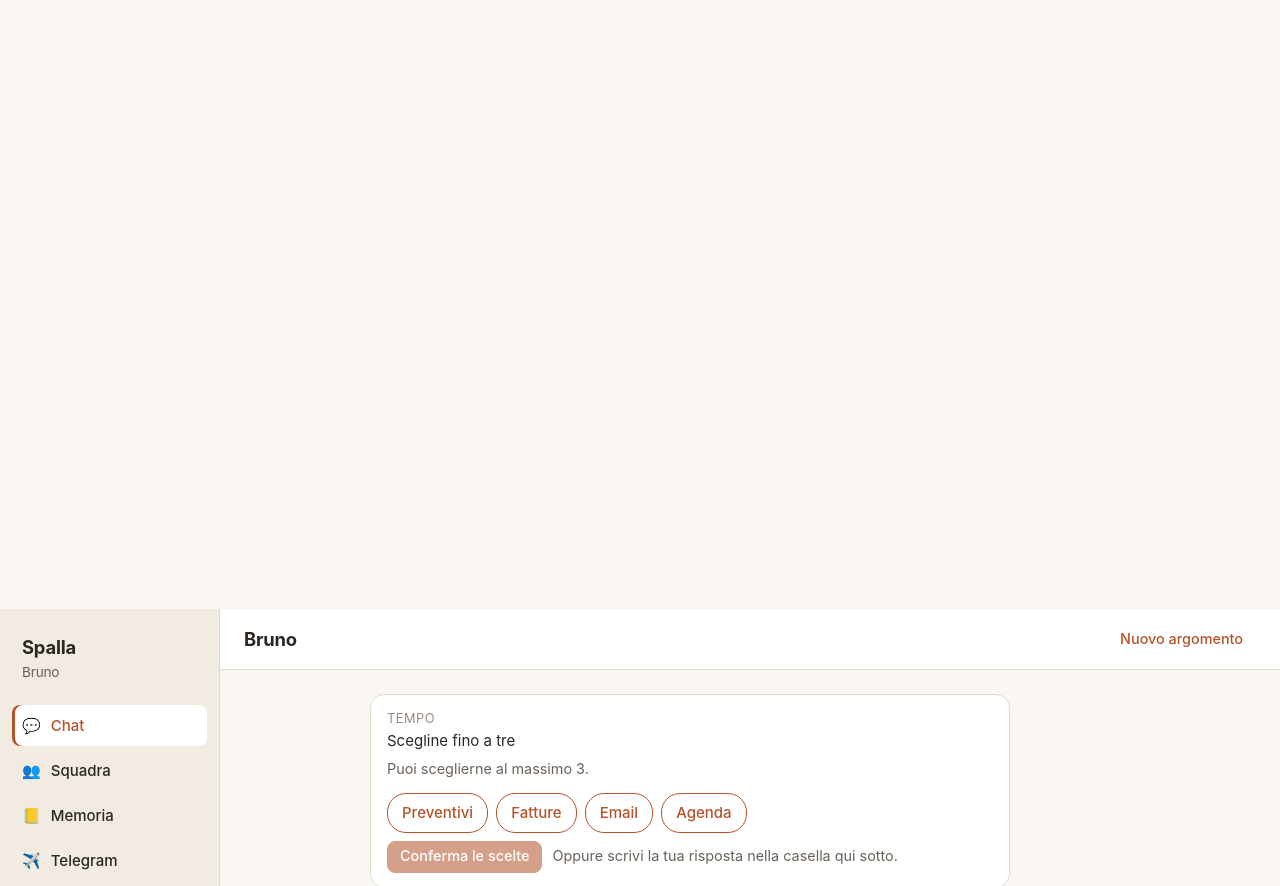
it: la chat nella finestra › scelta multipla: «fino a tre» si rispetta; le chip toccate non si perdono scrivendo nella casella in fondo
The image size is (1280, 886).
Later steps or results of the test are not shown.
(page scrolled)
What coordinates should you click on to do the following:
click the button "Preventivi"
I would click on:
 (438, 813)
Its box is [387, 793, 488, 833].
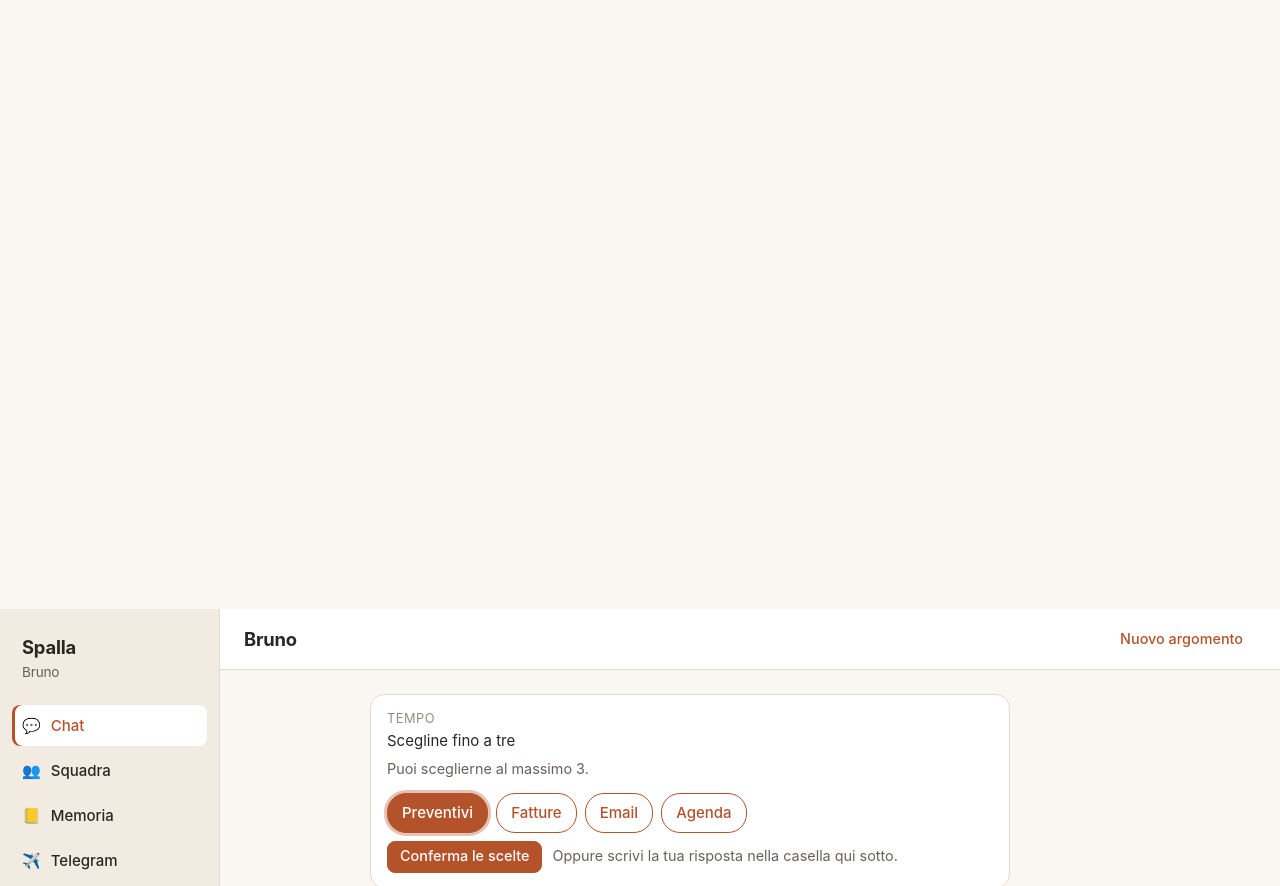
What coordinates should you click on to do the following:
click the button "Fatture"
I would click on:
 (536, 813)
Its box is [496, 793, 577, 833].
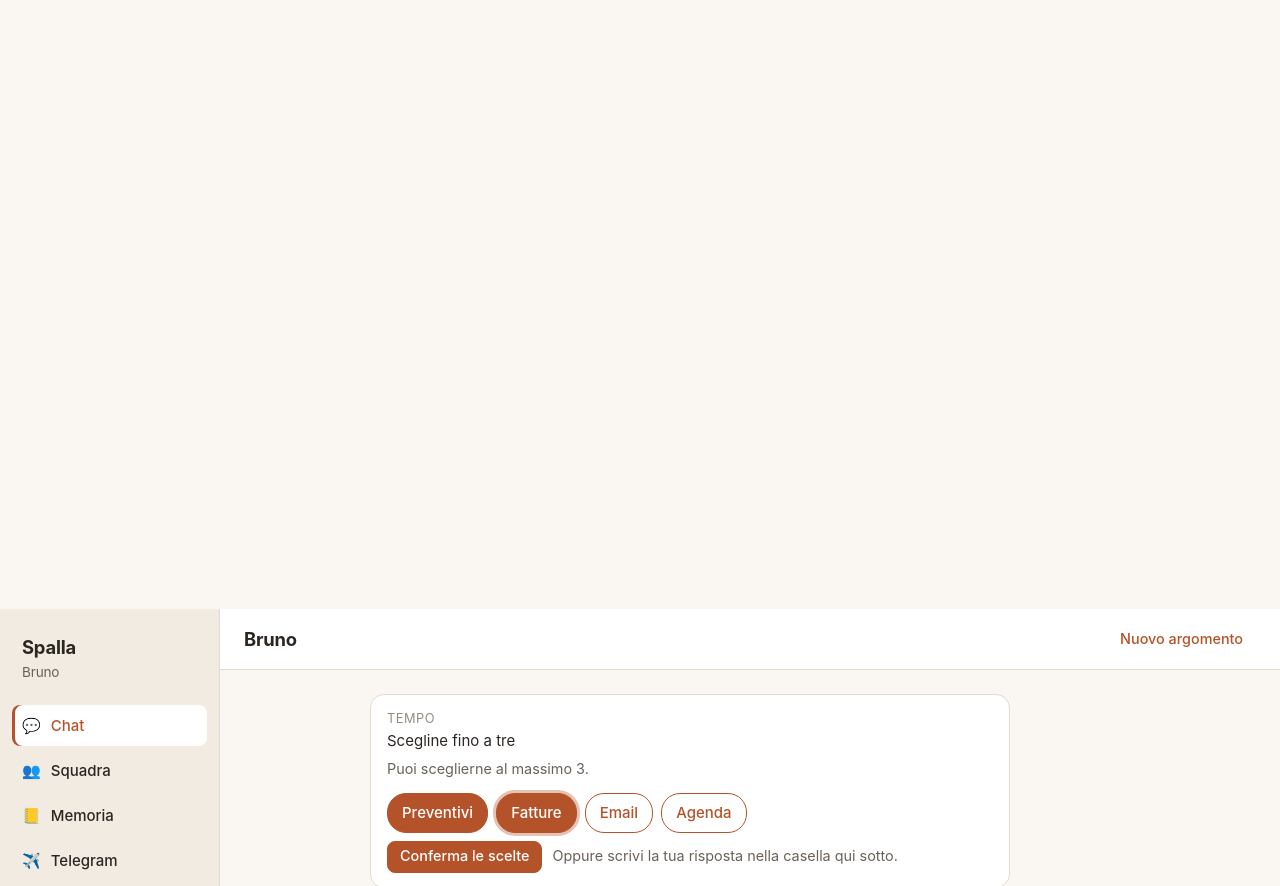
What coordinates should you click on to do the following:
click the button "Email"
I would click on:
 (619, 813)
Its box is [585, 793, 653, 833].
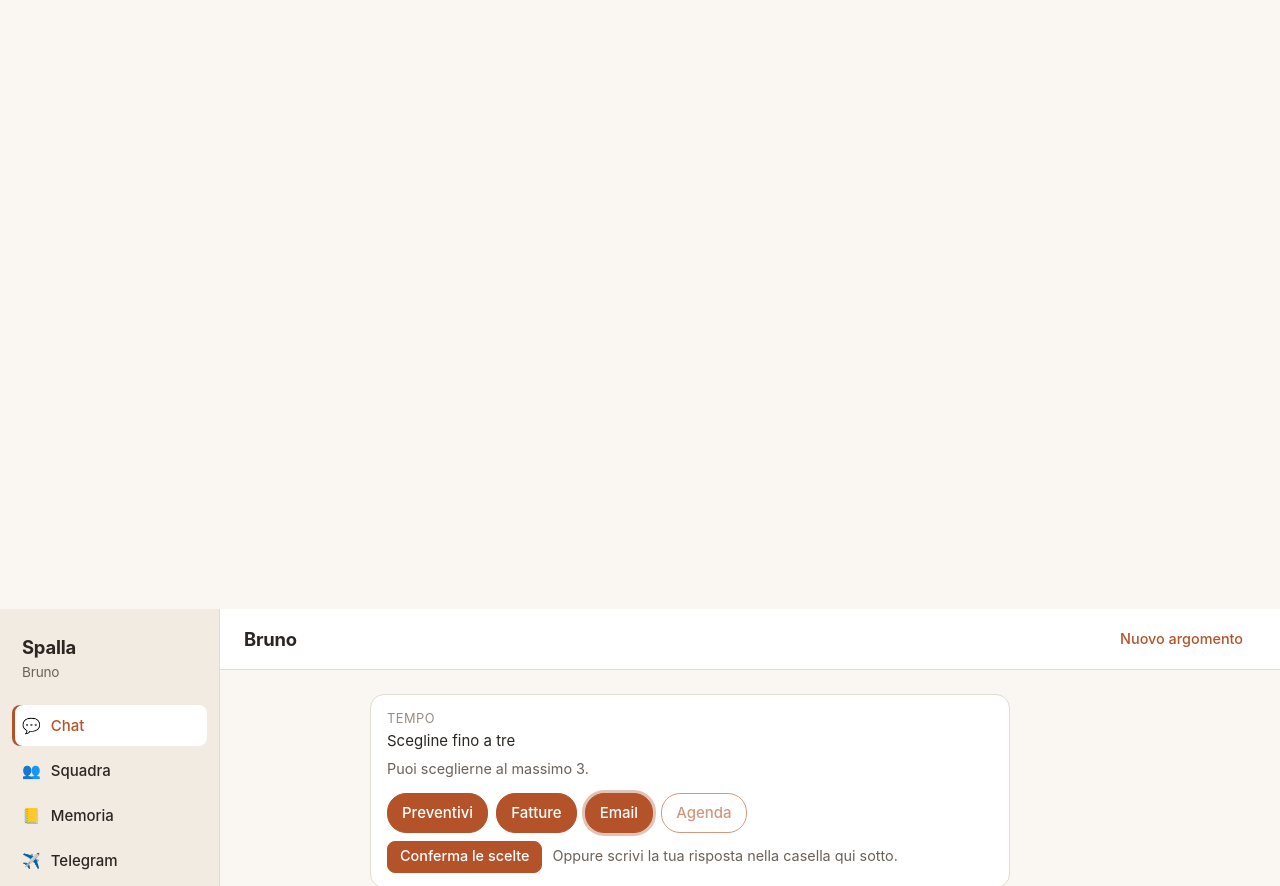
Expected: the button "Agenda" is disabled, [661, 793, 746, 833]
What coordinates should you click on to do the following:
click the button "Email"
I would click on:
 (619, 813)
Its box is [585, 793, 653, 833].
(page scrolled)
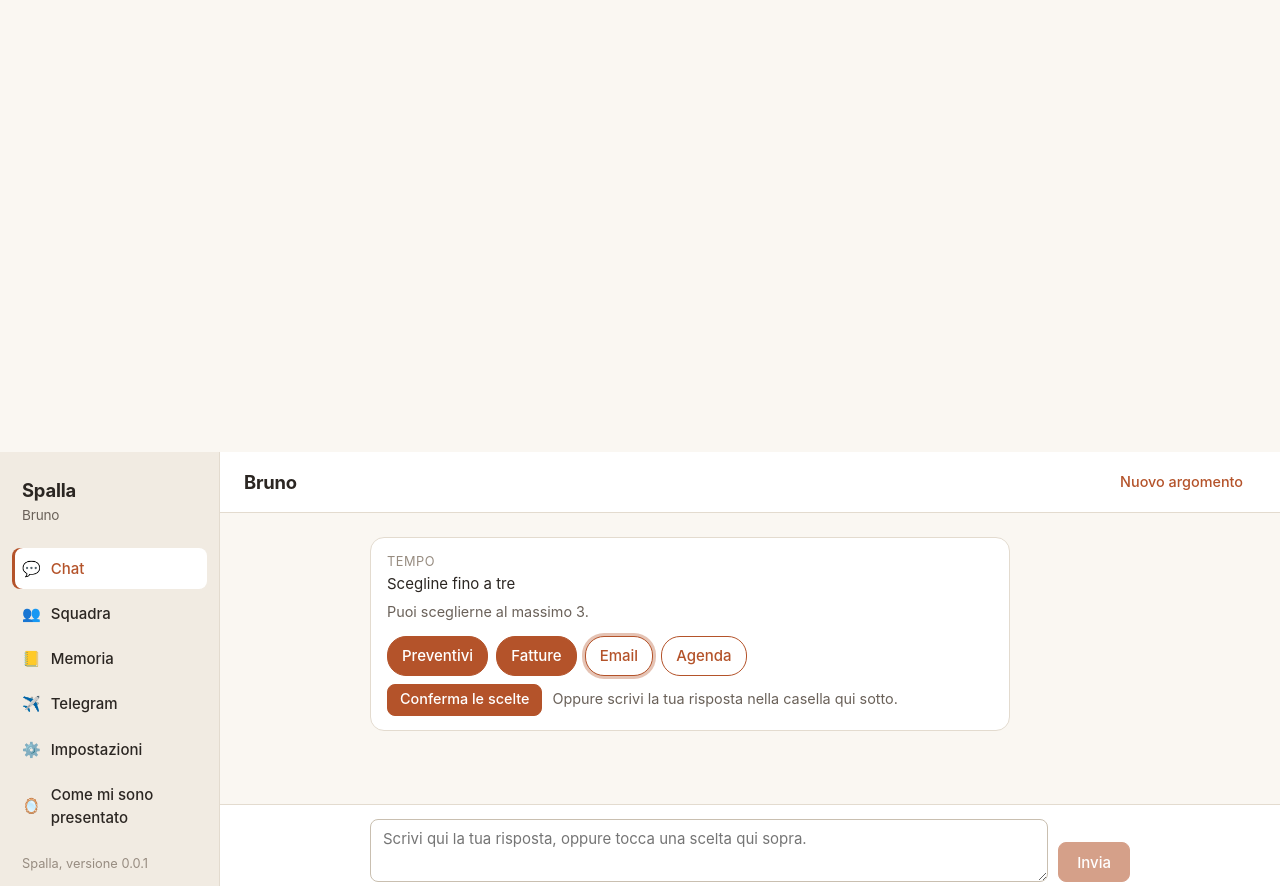
Expected: the button "Agenda" is enabled, [661, 636, 746, 676]
